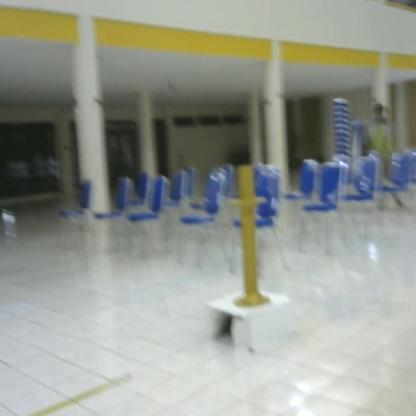pole: (221, 163, 278, 314)
